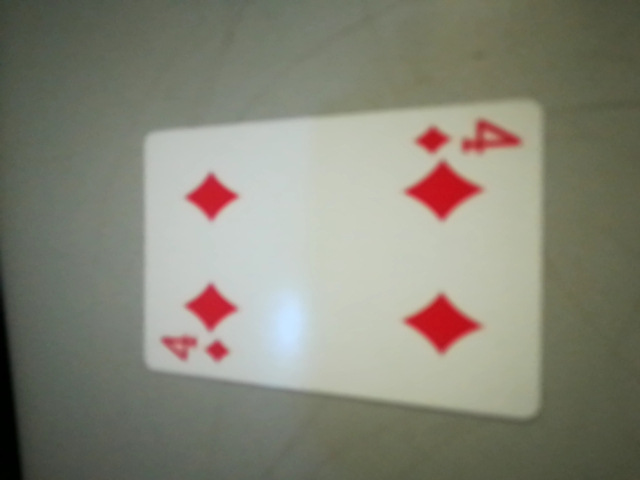fk 4: (398, 115, 524, 178)
